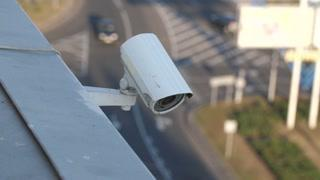------------------------------: (119, 30, 200, 121)
